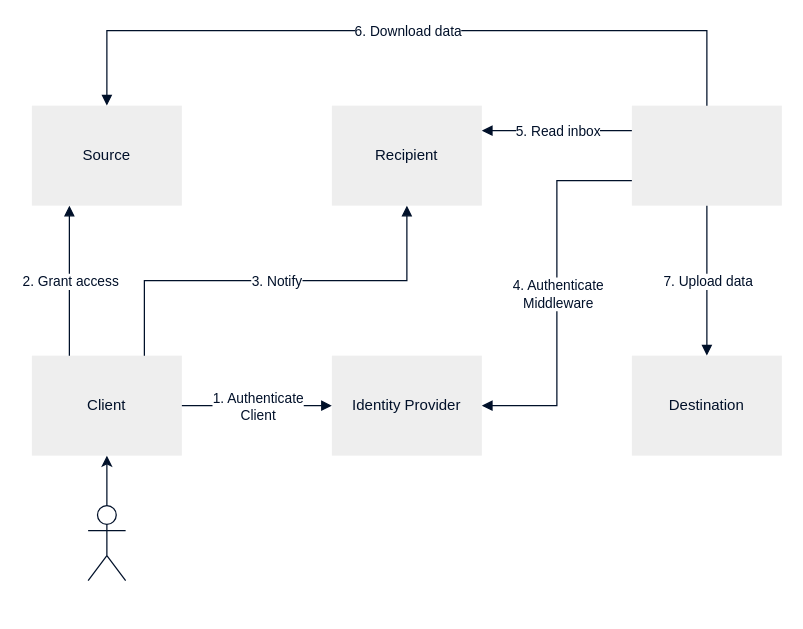
Image size: 803x629. Some labels were removed from this diagram. Each missing label, with the box of its shape:
Middleware: (631, 105, 781, 205)
Person: (87, 504, 126, 581)
